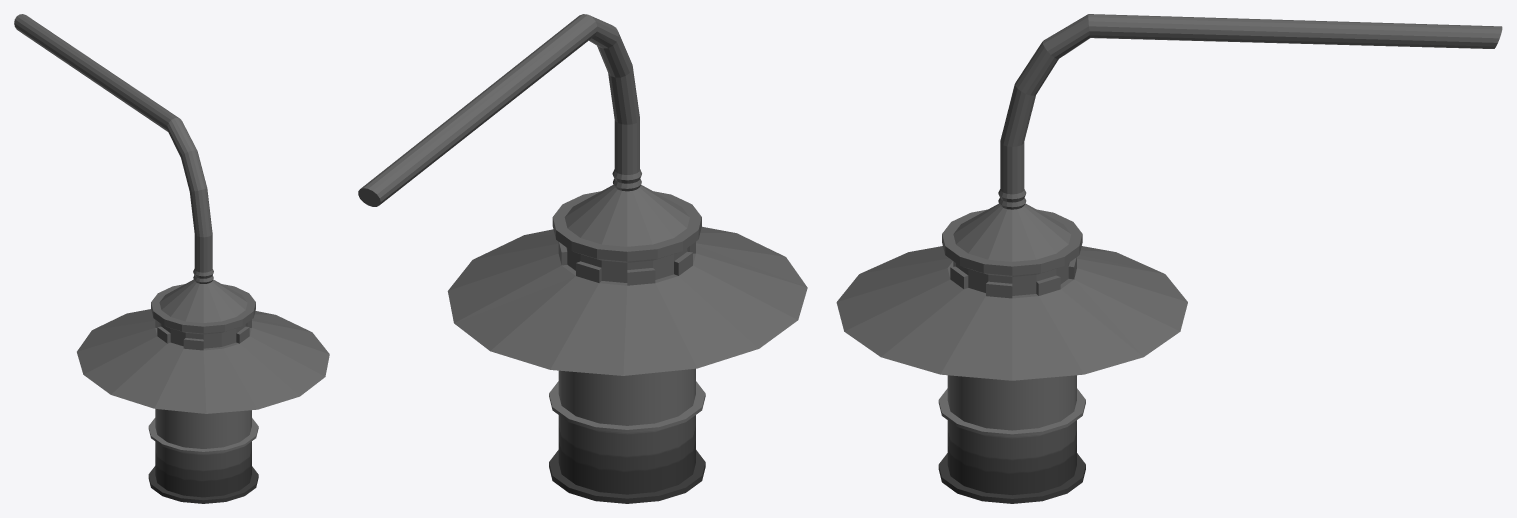
The model's file is Lantern.FBX.
The picture shows the model from 3 angles, left to right: view 1: azimuth 30°, elevation 25°; view 2: azimuth 150°, elevation 25°; view 3: azimuth 270°, elevation 25°; orthographic projection. The views are drawn at different scales.
Parts seen in each view (by area): view 1: Cylinder001; view 2: Cylinder001; view 3: Cylinder001.
Part boxes in pixels (x1=…): Cylinder001: x1=14, y1=14, x2=329, y2=503; Cylinder001: x1=358, y1=14, x2=807, y2=503; Cylinder001: x1=836, y1=14, x2=1502, y2=503.
Bounding box in the file's own units: 39.12 × 59.32 × 78.26.
